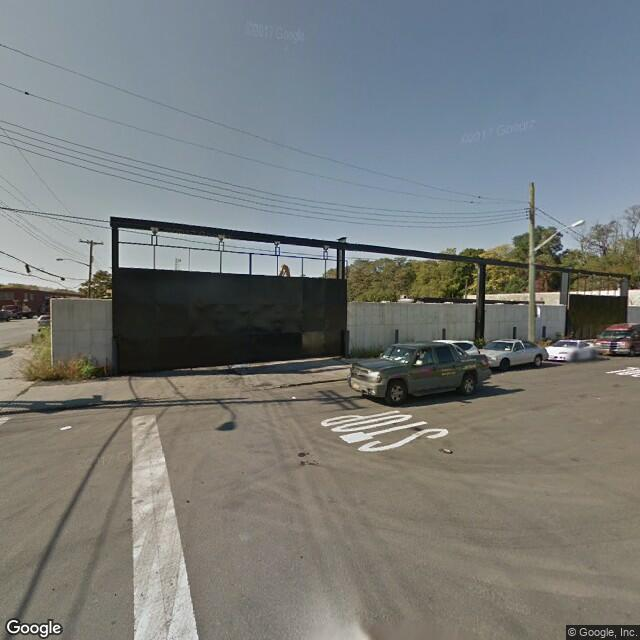litter: (300, 457, 321, 470), (58, 422, 75, 434), (295, 452, 311, 458), (443, 447, 455, 453), (290, 395, 301, 398)
